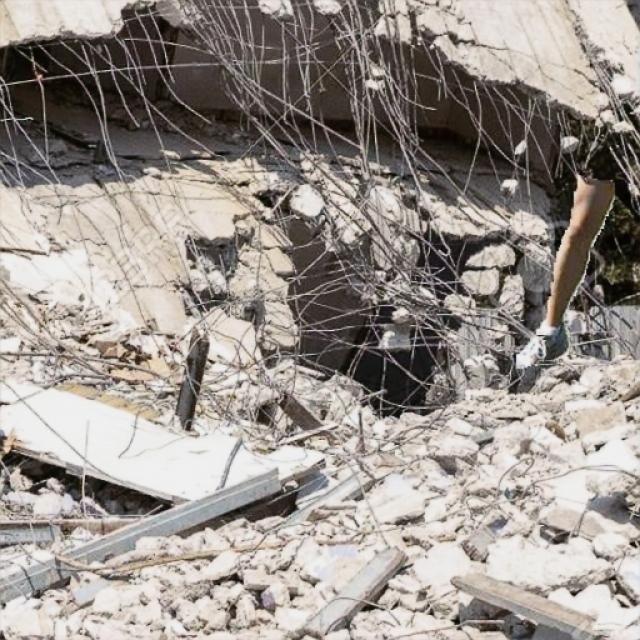Person in Rubble: (516, 172, 614, 368)
